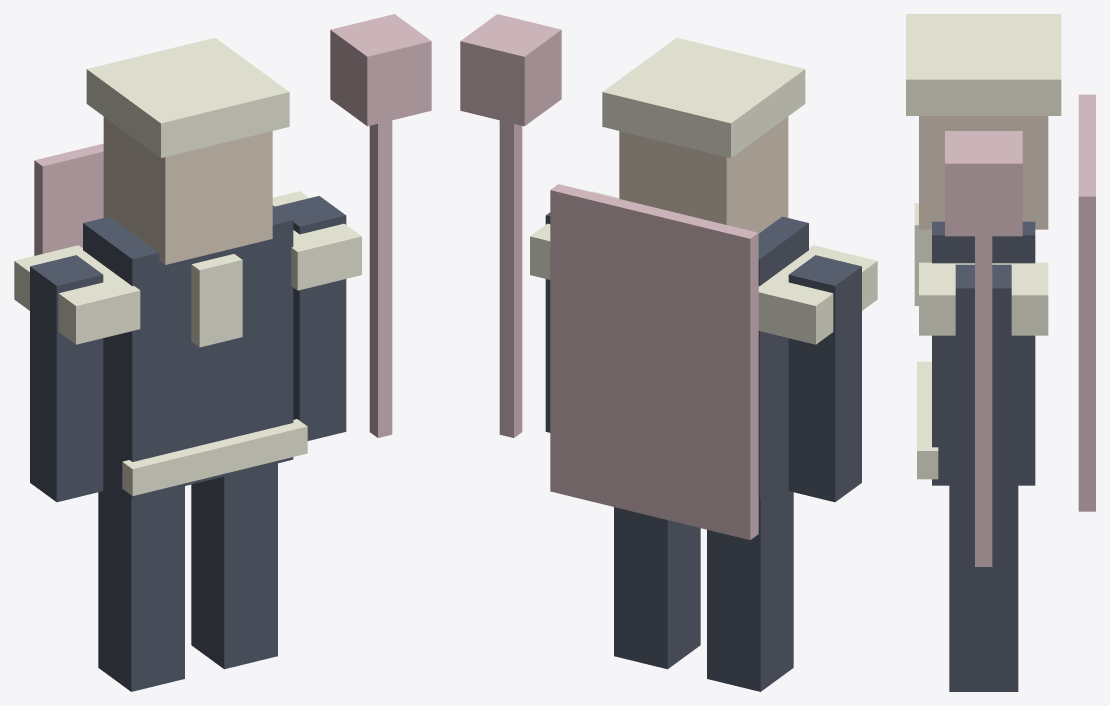
File: 13_makoa_tideforged_fixer_of_fuel.glb
3 views of the same model, side by side, from view 1: azimuth 30°, elevation 25°; view 2: azimuth 150°, elevation 25°; view 3: azimuth 270°, elevation 25° (orthographic). The views are drawn at different scales.
Visible parts, largest first — view 1: Makoa Tideforged, Fixer of Fuel; view 2: Makoa Tideforged, Fixer of Fuel; view 3: Makoa Tideforged, Fixer of Fuel.
Boxes of the visible parts, <box> form: Makoa Tideforged, Fixer of Fuel: <box>14,14,431,691</box>; Makoa Tideforged, Fixer of Fuel: <box>460,14,877,691</box>; Makoa Tideforged, Fixer of Fuel: <box>906,14,1095,691</box>.
Size of the model in its own units: 0.9911 by 1.49 by 0.4213.
